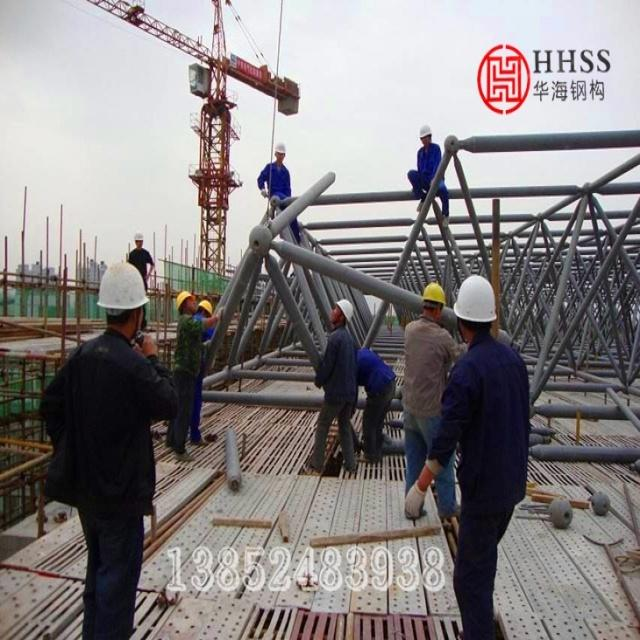helmet: (97, 344, 144, 451), (453, 365, 498, 456), (419, 373, 446, 428), (329, 396, 353, 443), (174, 386, 196, 426), (418, 163, 434, 196), (272, 187, 288, 217), (198, 397, 213, 428), (134, 304, 145, 331)
